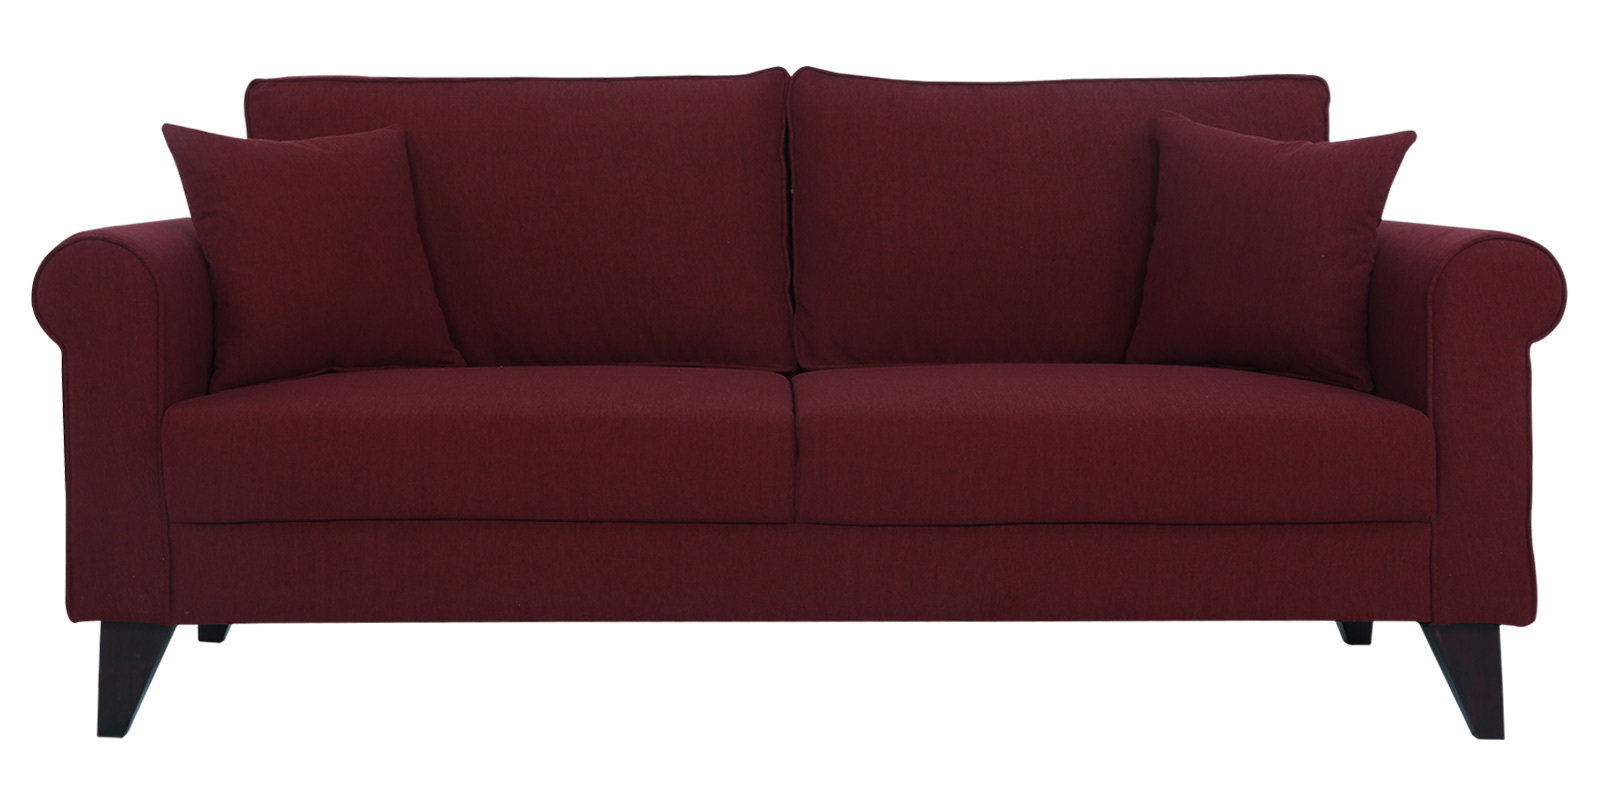Fuego Three Seater Sofa in Garnet Red Colour by CasaCraft: (12, 50, 1570, 777)
